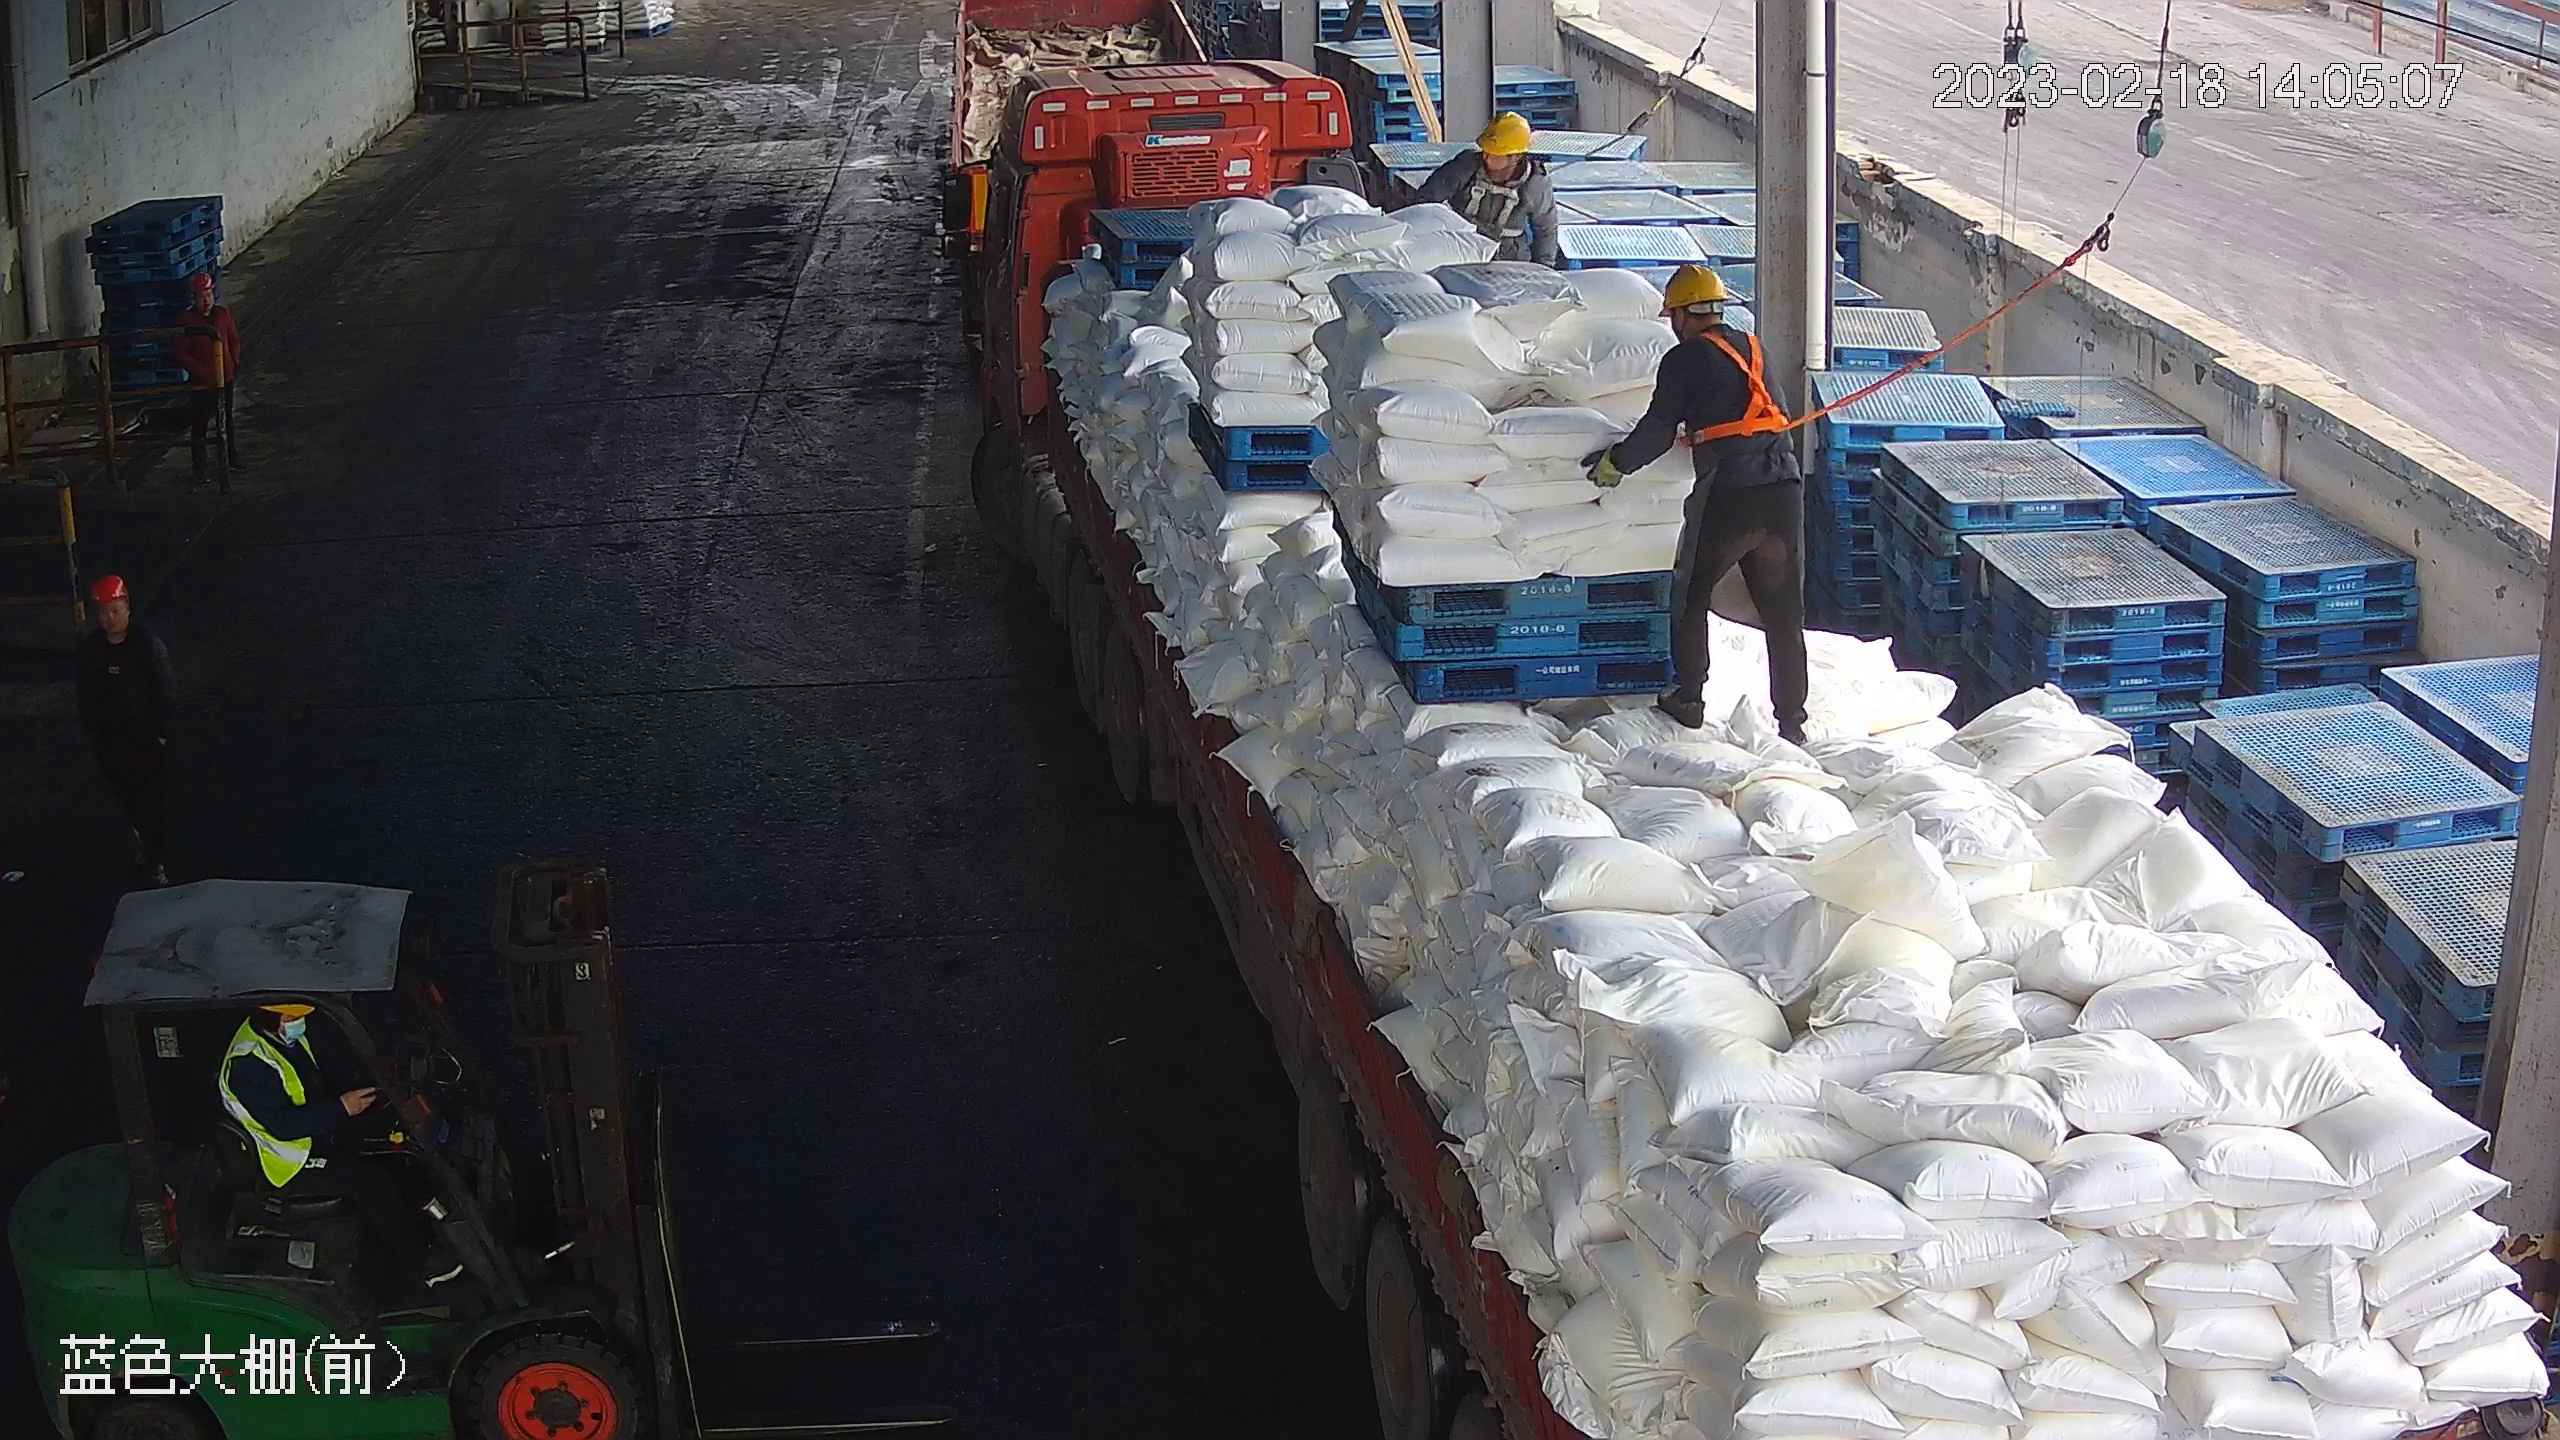belt: (1682, 324, 1792, 444), (1460, 160, 1530, 244)
head: (1643, 261, 1782, 395), (1435, 108, 1549, 209), (69, 570, 168, 676), (178, 266, 232, 328)
helmet: (1655, 260, 1727, 312), (1473, 108, 1535, 157), (87, 569, 129, 603), (188, 270, 212, 291)
people: (1583, 262, 1821, 740), (213, 992, 443, 1283), (68, 572, 178, 879), (173, 264, 246, 488)
truck: (941, 37, 2548, 1440)
